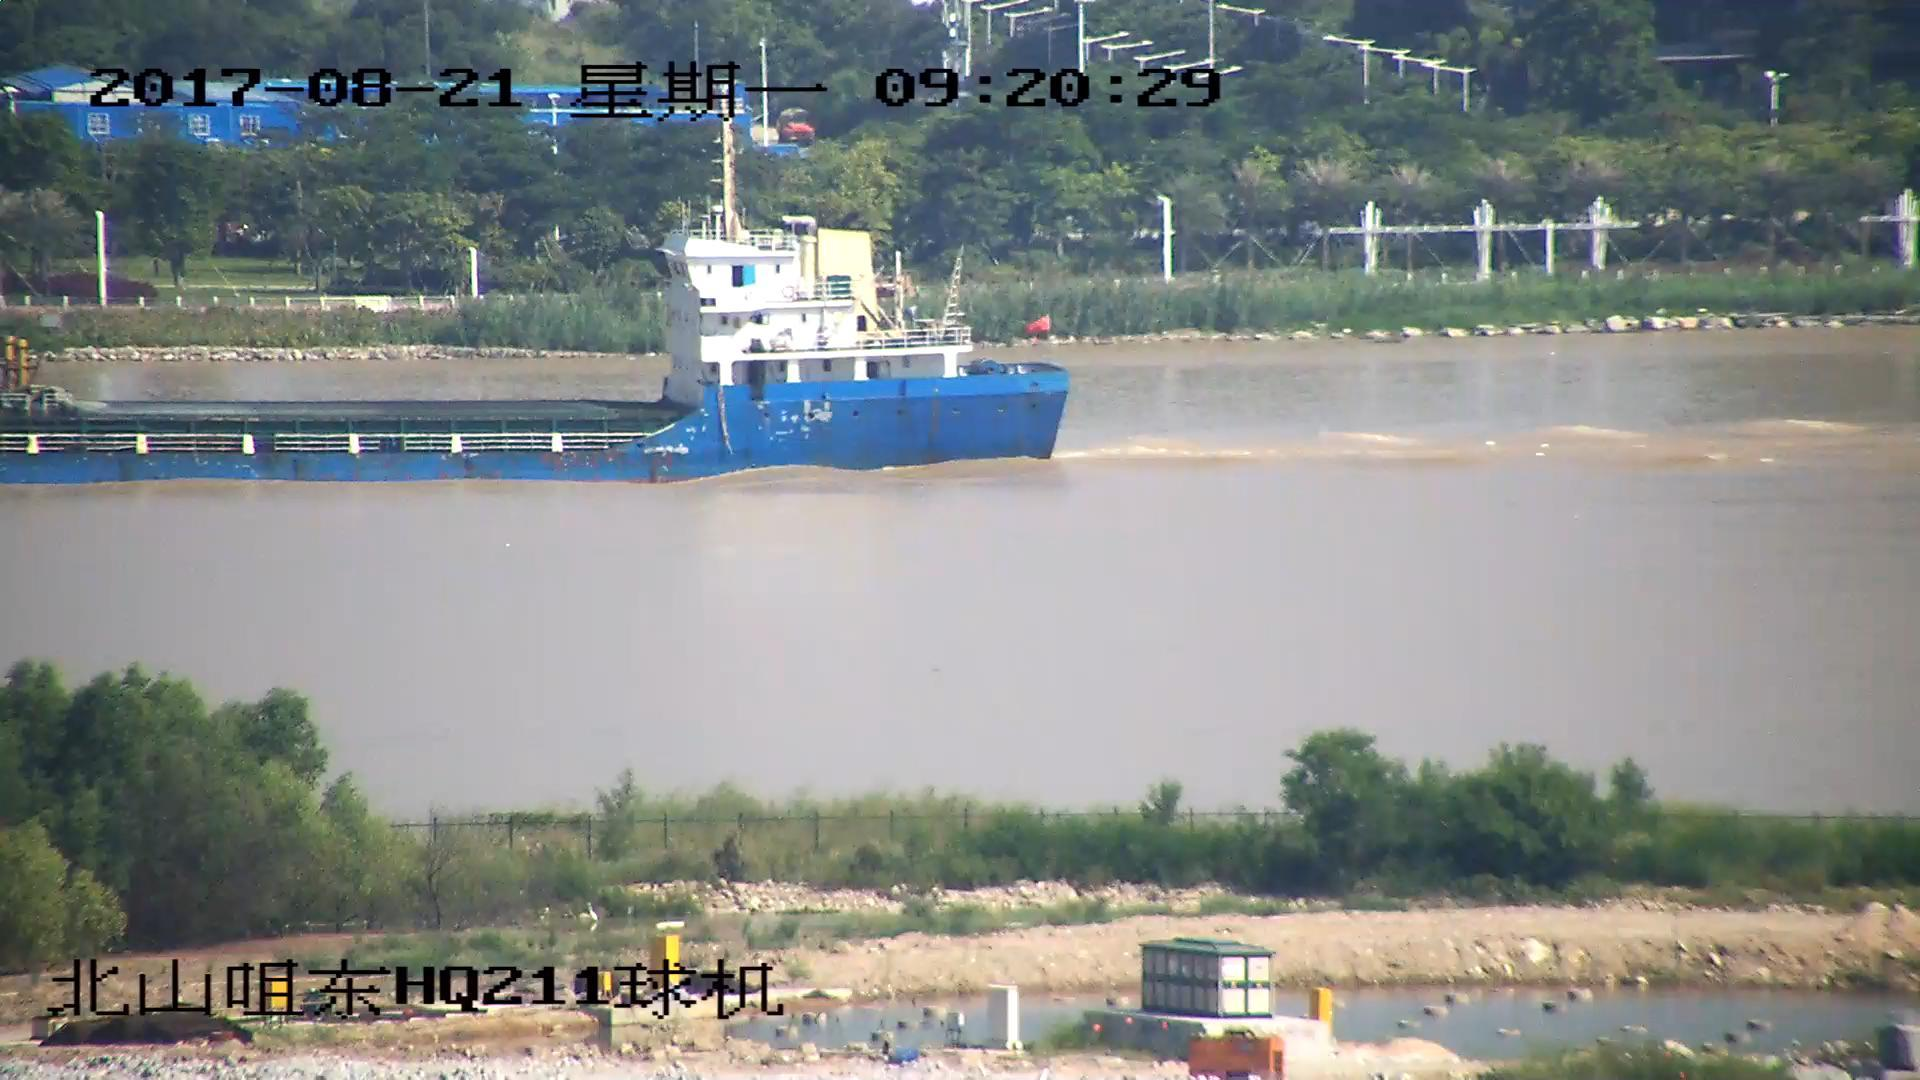Ship: (3, 131, 1071, 477)
